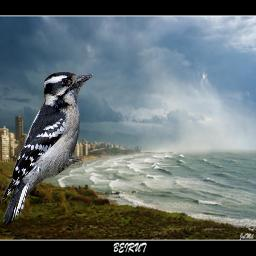Woodpecker: (1, 69, 94, 227)
